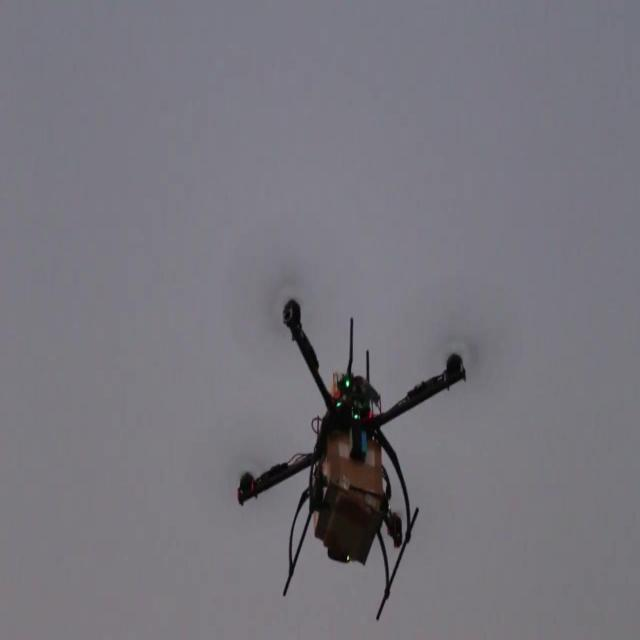UAV: (236, 299, 468, 622)
